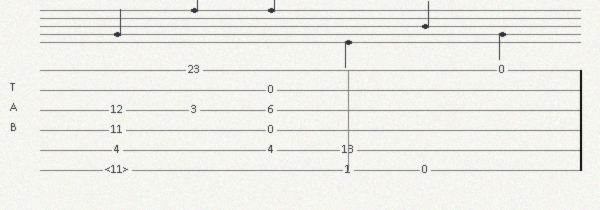0: (268, 84, 278, 96), (268, 124, 278, 136), (422, 164, 432, 176), (499, 64, 509, 76)
1: (345, 164, 355, 176)
11: (111, 124, 127, 136)
12: (111, 104, 127, 116)
13: (342, 144, 358, 156)
23: (188, 64, 204, 76)
3: (191, 104, 201, 116)
4: (114, 144, 124, 156), (268, 144, 278, 156)
6: (268, 104, 278, 116)
harmonic: (105, 164, 133, 176)
